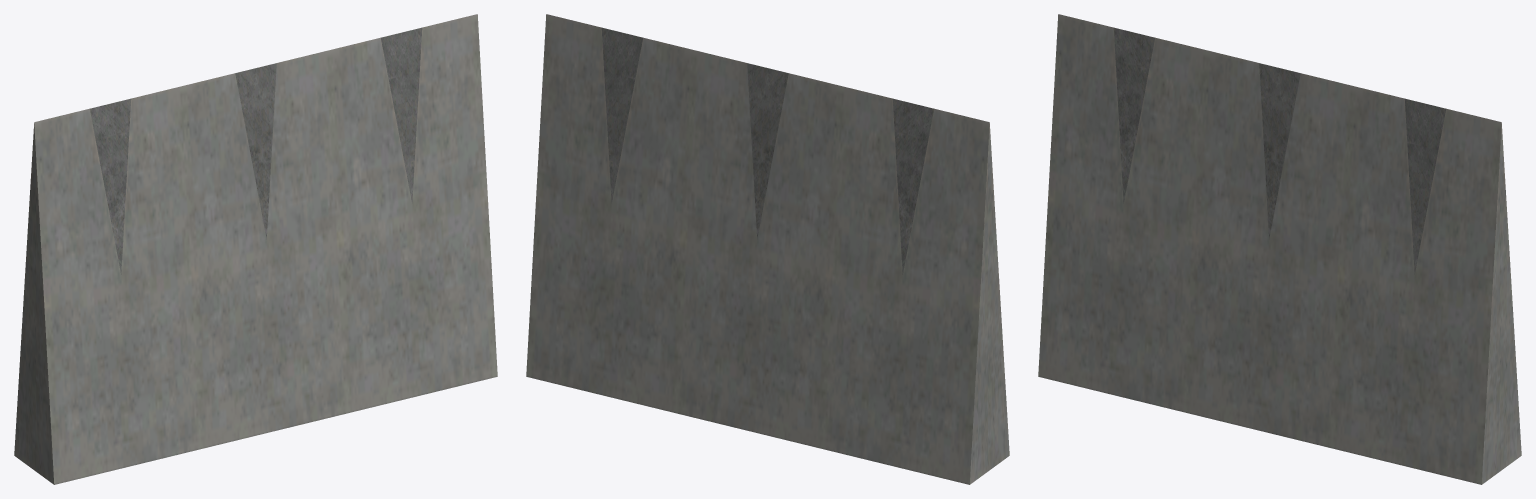
Rendered from mun_all_military_wall_weak_impl_s01_l2.fbx.
3 views of the same model, side by side, from view 1: azimuth 30°, elevation 25°; view 2: azimuth 150°, elevation 25°; view 3: azimuth 330°, elevation 25° (orthographic).
Visible parts, largest first — view 1: mesh_node; view 2: mesh_node; view 3: mesh_node.
Boxes of the visible parts, x1=… form: mesh_node: x1=14, y1=14, x2=497, y2=484; mesh_node: x1=526, y1=14, x2=1009, y2=484; mesh_node: x1=1038, y1=14, x2=1521, y2=484.
Size of the model in its own units: 8 by 6 by 1.25.
